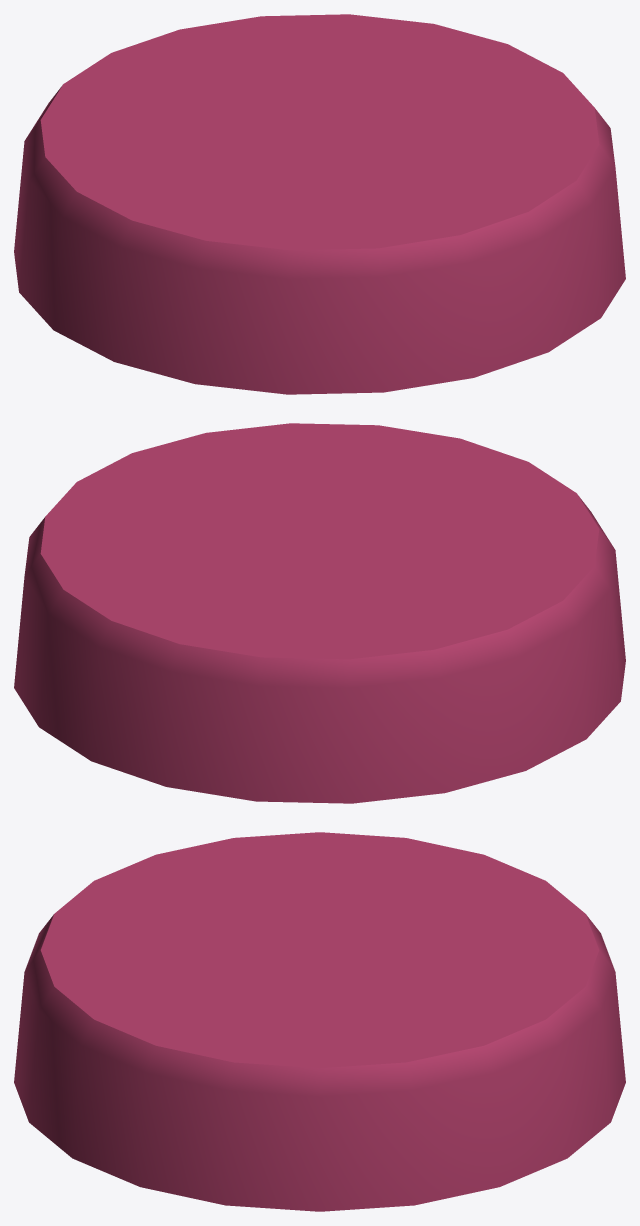
Rendered from Code_Machine_02_Button.fbx.
3 views of the same model, one above another, from view 1: azimuth 30°, elevation 25°; view 2: azimuth 150°, elevation 25°; view 3: azimuth 270°, elevation 25° (orthographic).
Parts seen in each view (by area): view 1: Code_Machine_02_Button; view 2: Code_Machine_02_Button; view 3: Code_Machine_02_Button.
Boxes of the visible parts, bbox=[...] form: Code_Machine_02_Button: bbox=[14, 14, 625, 394]; Code_Machine_02_Button: bbox=[14, 423, 625, 803]; Code_Machine_02_Button: bbox=[14, 832, 625, 1211].
Bounding box in the file's own units: 2.22 × 0.5292 × 2.22.
